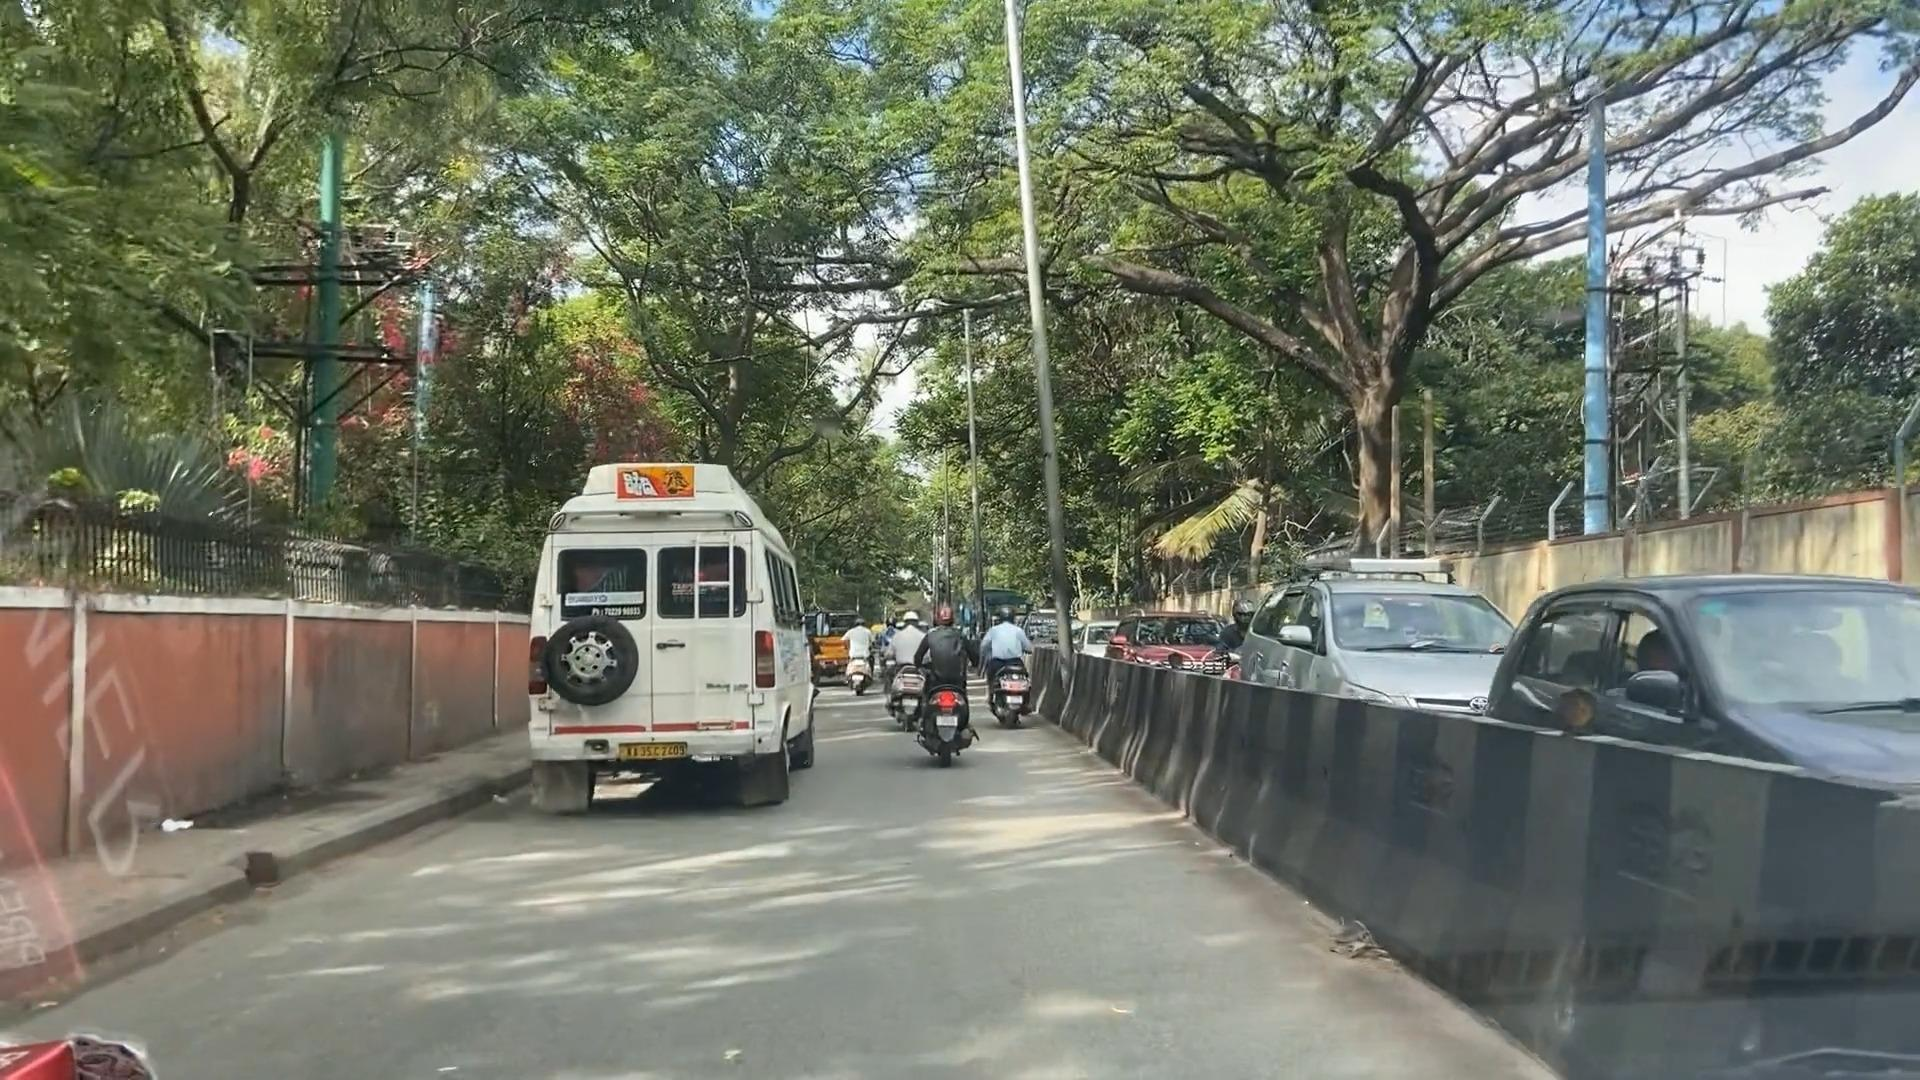HMV: (541, 463, 782, 824)
LMV: (907, 583, 980, 790), (990, 583, 1040, 721)
